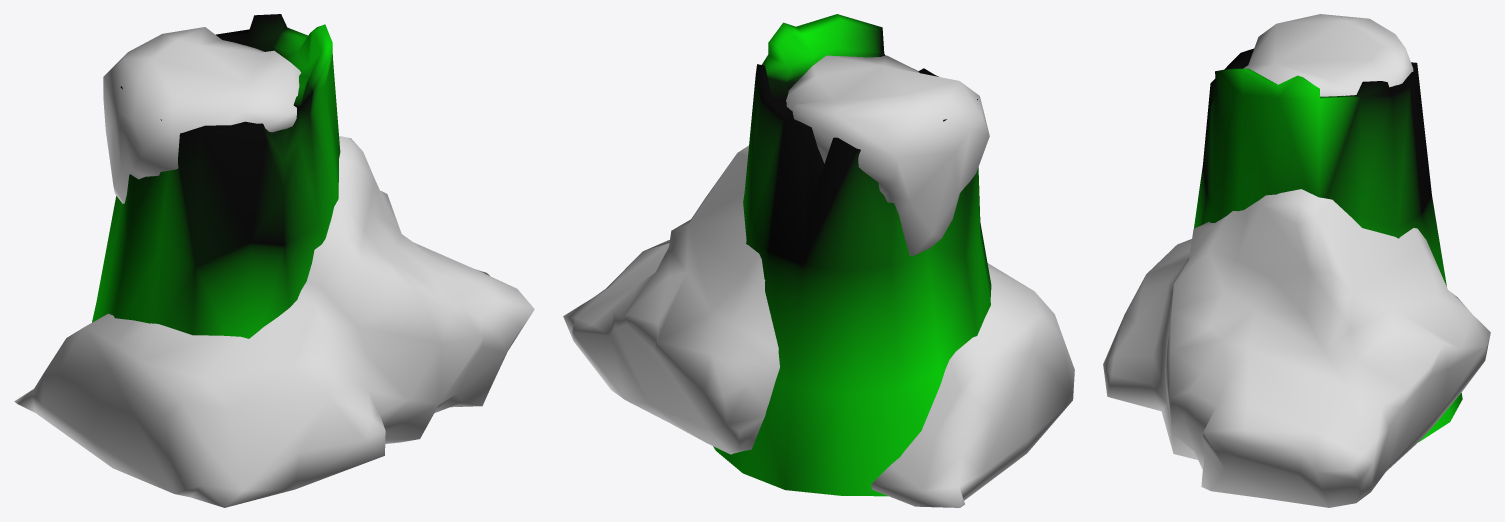
Rendered from SM_PineStump1_SnowCover.FBX.
3 renders of one model, left to right at view 1: azimuth 30°, elevation 25°; view 2: azimuth 150°, elevation 25°; view 3: azimuth 270°, elevation 25°, orthographic. The views are drawn at different scales.
Visible parts, largest first — view 1: SM_PineStump1_SnowCover_LOD0; view 2: SM_PineStump1_SnowCover_LOD0; view 3: SM_PineStump1_SnowCover_LOD0.
Part boxes in pixels (<box>): SM_PineStump1_SnowCover_LOD0: <box>14,14,534,507</box>; SM_PineStump1_SnowCover_LOD0: <box>563,14,1074,507</box>; SM_PineStump1_SnowCover_LOD0: <box>1103,14,1490,507</box>.
Size of what is drawn, in the model's own units: 206 by 177 by 165.
